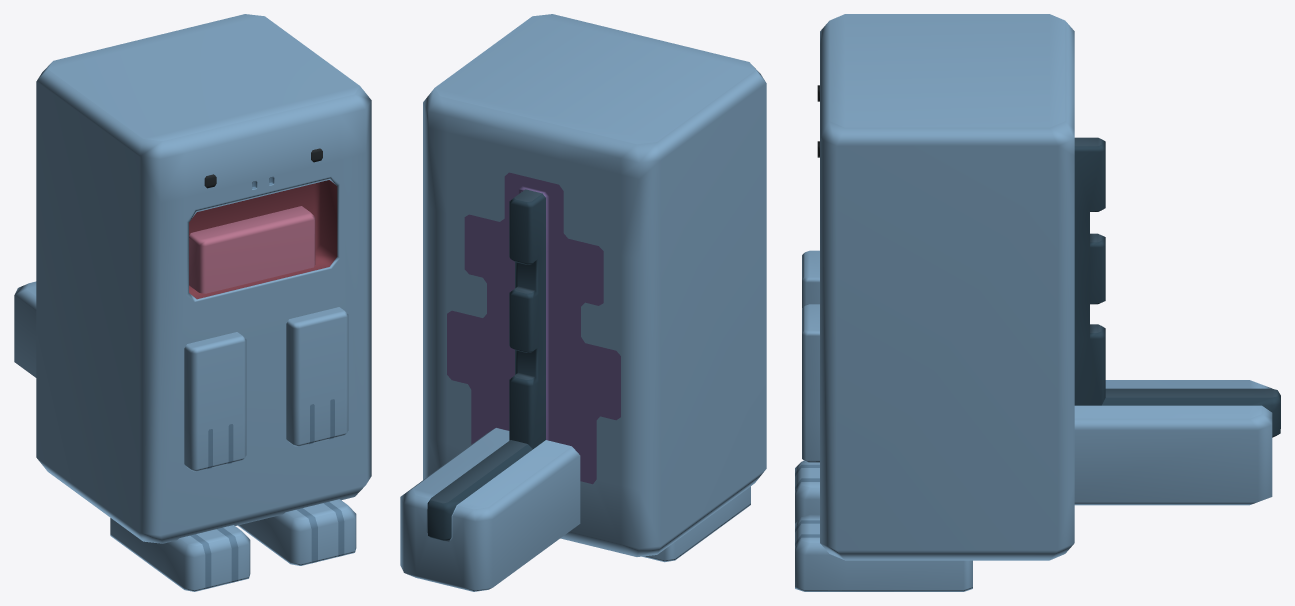
The picture shows the model from 3 angles, left to right: view 1: azimuth 30°, elevation 25°; view 2: azimuth 150°, elevation 25°; view 3: azimuth 270°, elevation 25°; orthographic projection. The views are drawn at different scales.
Parts seen in each view (by area): view 1: model; view 2: model; view 3: model.
Part boxes in pixels (bbox=[...]): model: bbox=[14, 14, 371, 591]; model: bbox=[400, 14, 766, 591]; model: bbox=[795, 14, 1280, 591].
Size of the model in its own units: 1.15 by 2.11 by 1.95.
